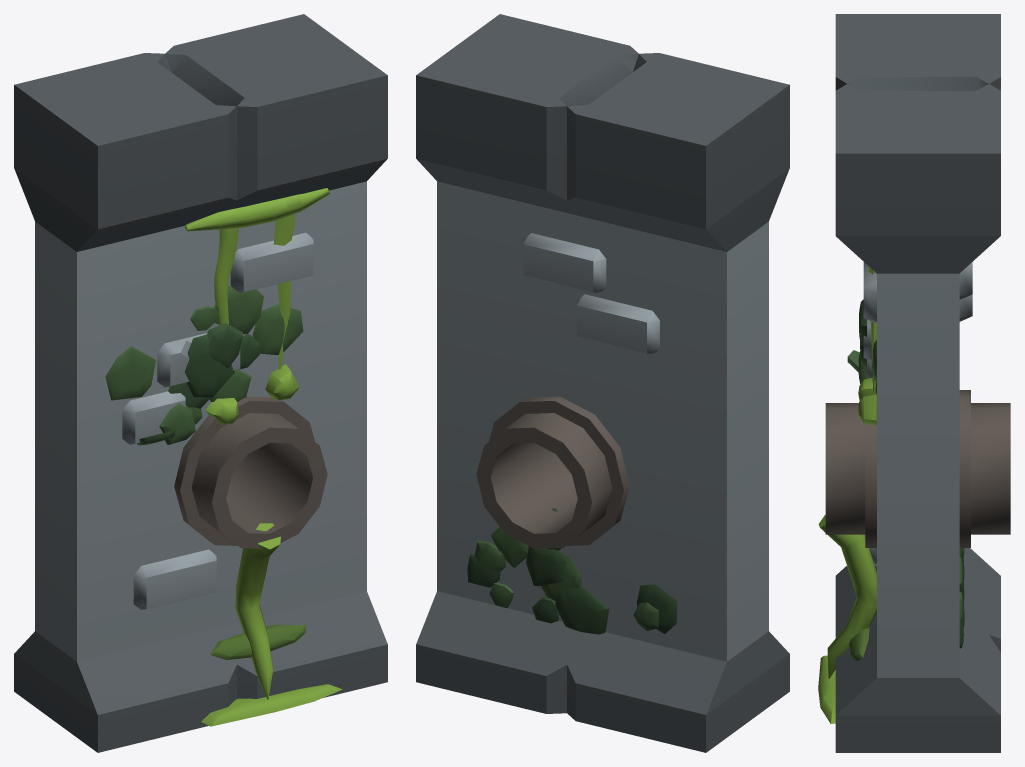
File: wall_slimy_half_B.glb
3 views of the same model, side by side, from view 1: azimuth 30°, elevation 25°; view 2: azimuth 150°, elevation 25°; view 3: azimuth 270°, elevation 25° (orthographic).
Visible parts, largest first — view 1: Item; view 2: Item; view 3: Item.
Boxes of the visible parts, bbox=[...] form: Item: bbox=[14, 14, 387, 752]; Item: bbox=[416, 14, 789, 752]; Item: bbox=[818, 14, 1010, 752].
Bounding box in the file's own units: 2 × 4 × 1.17.
Materials: 4 (4 with a texture image).
